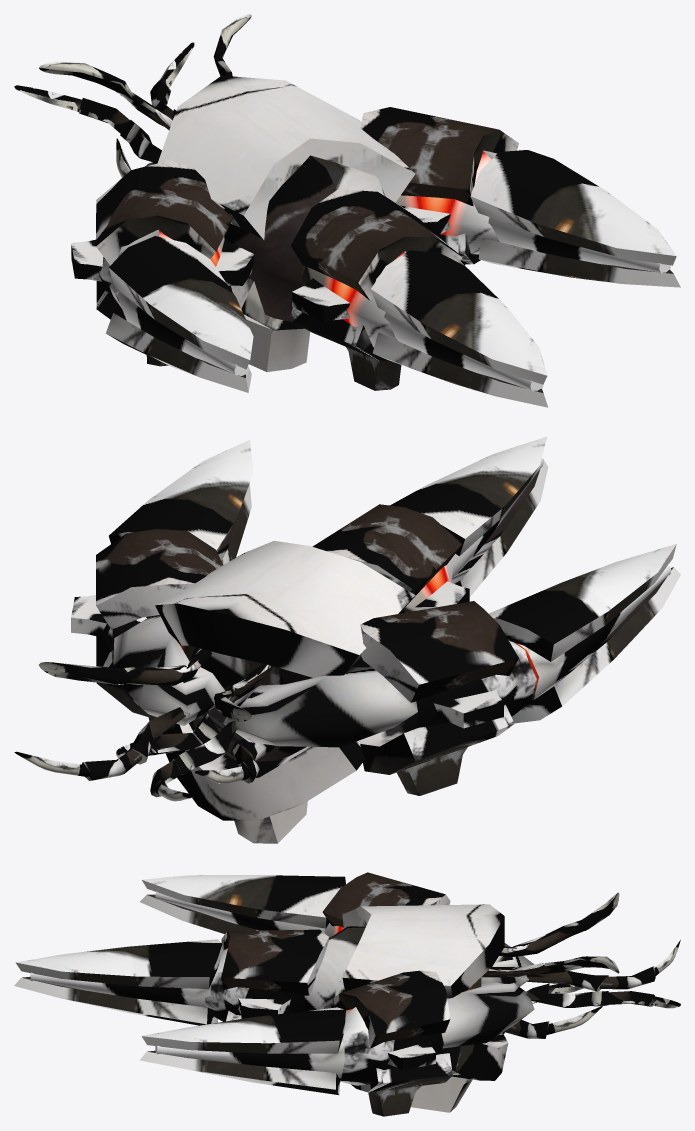
Rendered from Devotee.fbx.
The picture shows the model from 3 angles, top to bottom: view 1: azimuth 30°, elevation 25°; view 2: azimuth 150°, elevation 25°; view 3: azimuth 270°, elevation 25°; orthographic projection. The views are drawn at different scales.
Visible parts, largest first — view 1: 00_Core, 02_Rear, 03_Right, 01_Left; view 2: 00_Core, 01_Left, 02_Rear, 03_Right; view 3: 00_Core, 03_Right, 02_Rear, 01_Left.
Boxes of the visible parts, x1,y1,x2,y2 form: 00_Core: [14, 14, 450, 371]; 02_Rear: [289, 189, 547, 407]; 03_Right: [360, 107, 680, 287]; 01_Left: [71, 160, 254, 392]; 00_Core: [14, 541, 417, 843]; 01_Left: [359, 544, 680, 795]; 02_Rear: [312, 436, 548, 613]; 03_Right: [71, 440, 253, 720]; 00_Core: [304, 892, 680, 1112]; 03_Right: [139, 970, 452, 1116]; 02_Rear: [14, 929, 329, 1025]; 01_Left: [140, 872, 450, 937].
Size of the model in its own units: 8950 by 4678 by 14726.
1 material, 1 textured.
